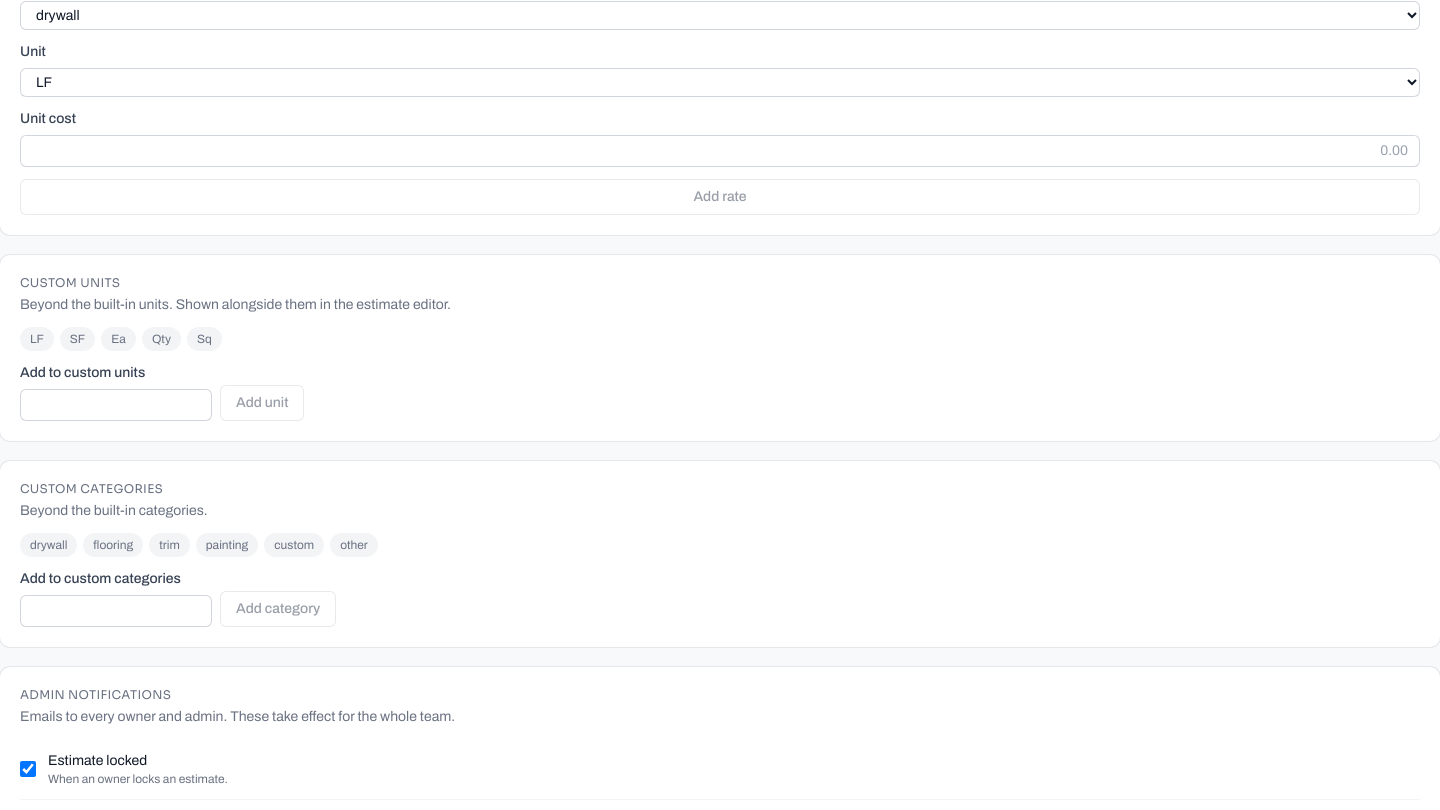
Test case: SettingsPage › custom units and categories › refuses a duplicate of a built-in
(page scrolled)
Type "sf" into the field labelled "Add to custom units" at (116, 405), box [20, 389, 212, 421]
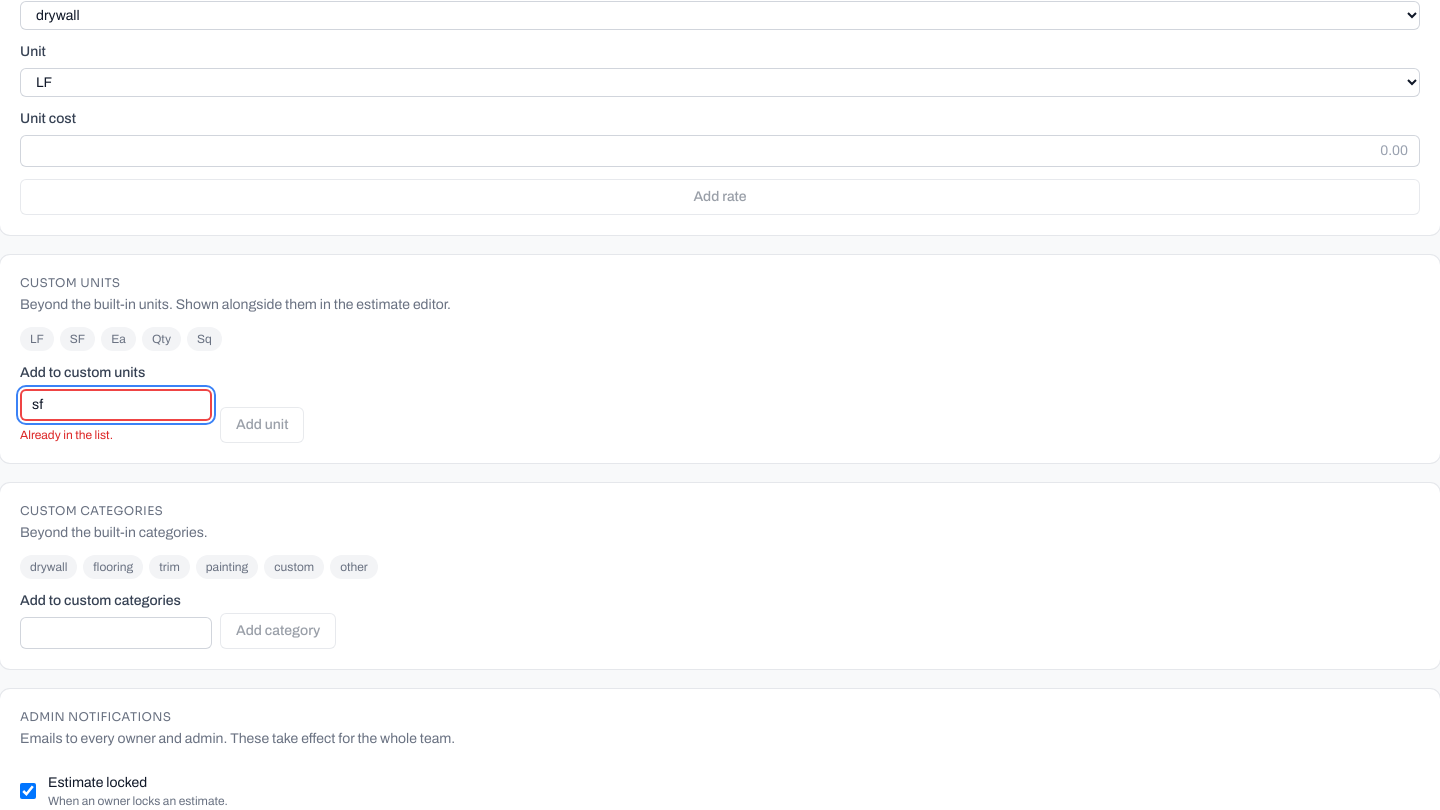
Expected: the text "Already in the list." is shown, [20, 428, 113, 442]
